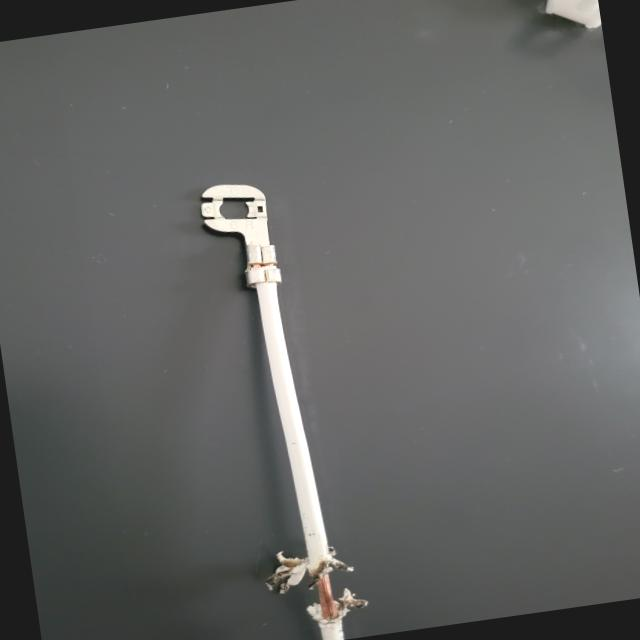defect: (202, 477, 547, 640)
